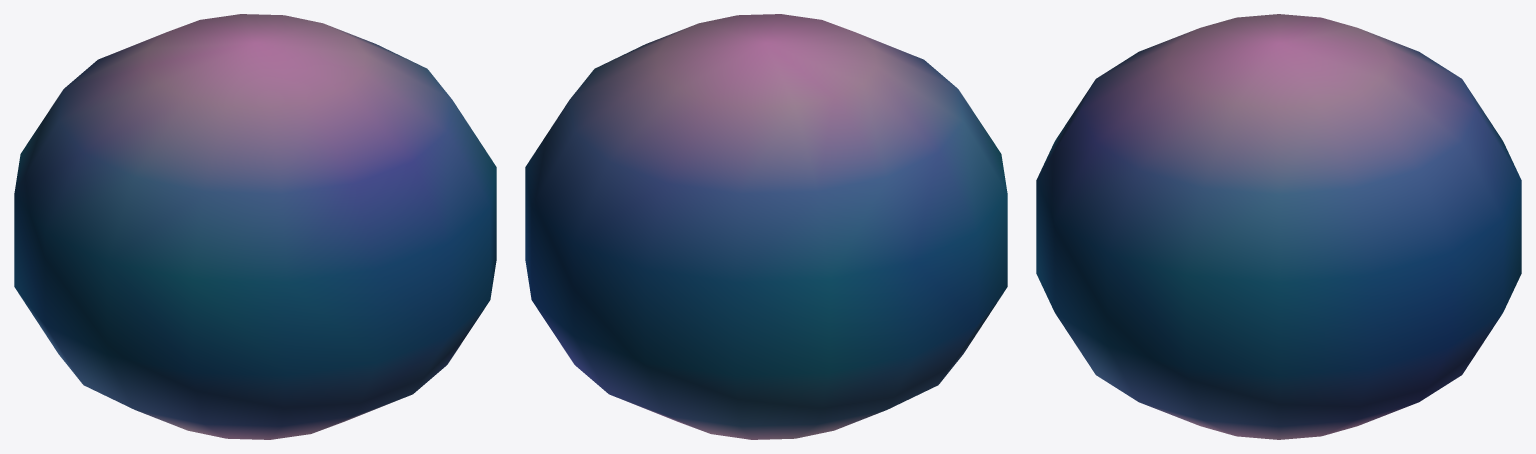
Rendered from space-planets-moons-gas-giant_v1.fbx.
3 renders of one model, left to right at view 1: azimuth 30°, elevation 25°; view 2: azimuth 150°, elevation 25°; view 3: azimuth 270°, elevation 25°, orthographic.
Visible parts, largest first — view 1: Gas Giant; view 2: Gas Giant; view 3: Gas Giant.
Boxes of the visible parts, x1=… form: Gas Giant: x1=14, y1=14, x2=496, y2=439; Gas Giant: x1=525, y1=14, x2=1007, y2=439; Gas Giant: x1=1036, y1=14, x2=1521, y2=439.
Bounding box in the file's own units: 0.5 × 0.4217 × 0.5.
